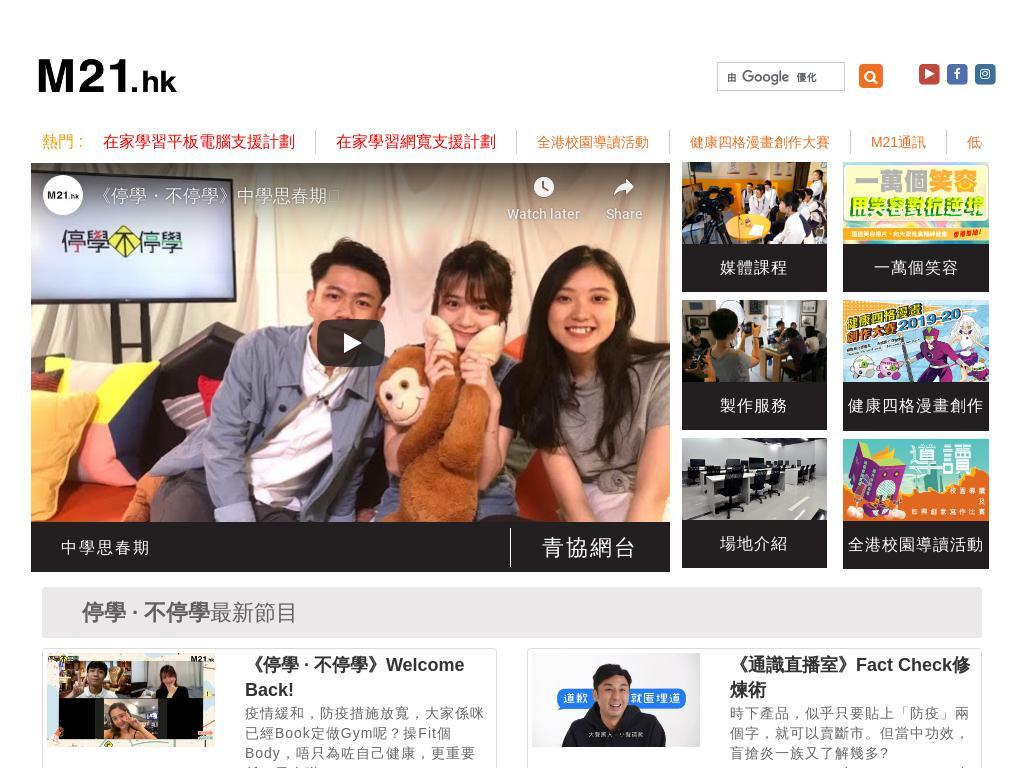button: (42, 647, 497, 768), (527, 647, 982, 768), (27, 20, 179, 130), (713, 50, 913, 95), (102, 131, 295, 153), (335, 131, 496, 153), (689, 132, 830, 152), (536, 132, 649, 152), (870, 132, 927, 152), (967, 132, 1024, 152), (827, 299, 828, 300), (827, 437, 828, 438), (988, 299, 989, 300), (988, 438, 989, 439)
field: (727, 68, 831, 86)
iframe: (31, 163, 670, 523)
image: (47, 652, 215, 748), (532, 652, 700, 748), (681, 299, 828, 382), (681, 437, 828, 520), (843, 299, 989, 382), (843, 438, 989, 521), (681, 162, 828, 244), (843, 162, 989, 244), (37, 57, 179, 93), (886, 70, 899, 83)
link: (542, 535, 639, 561), (840, 63, 844, 90)
text: (244, 704, 485, 768), (729, 704, 970, 761), (244, 652, 492, 703), (729, 652, 977, 703), (843, 394, 989, 418), (681, 256, 828, 279), (681, 394, 828, 417), (681, 532, 828, 555), (843, 256, 989, 279), (843, 533, 989, 556), (82, 599, 210, 625), (61, 537, 151, 565), (210, 599, 299, 625), (729, 764, 974, 768), (42, 131, 83, 153)
